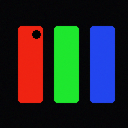0 point: (32, 30, 40, 38)
